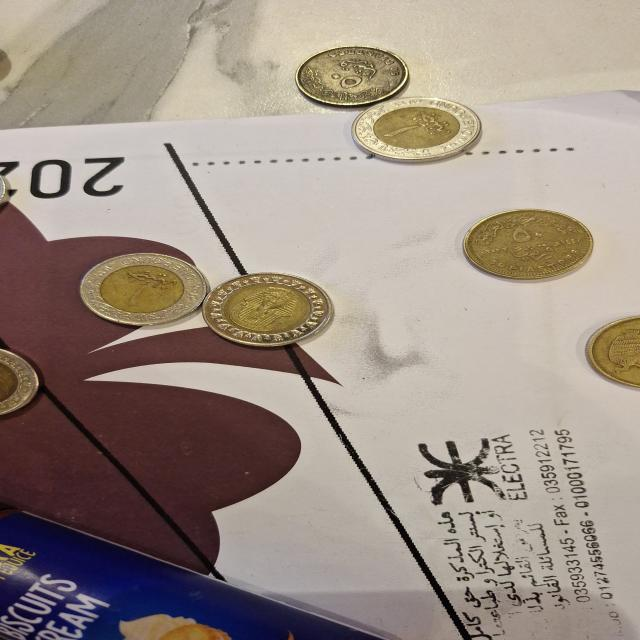Half Pound: (456, 207, 596, 282), (292, 40, 414, 111), (580, 311, 639, 396)
One Pound: (208, 265, 336, 352), (74, 250, 212, 330), (352, 95, 491, 168), (0, 339, 50, 431)
